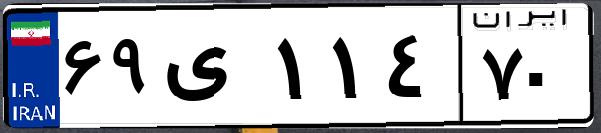0: (525, 38, 570, 115)
1: (270, 28, 330, 110), (330, 28, 385, 110)
4: (385, 28, 445, 110)
6: (57, 26, 110, 100)
7: (475, 38, 525, 113)
9: (110, 28, 158, 98)
ی: (158, 20, 270, 120)
